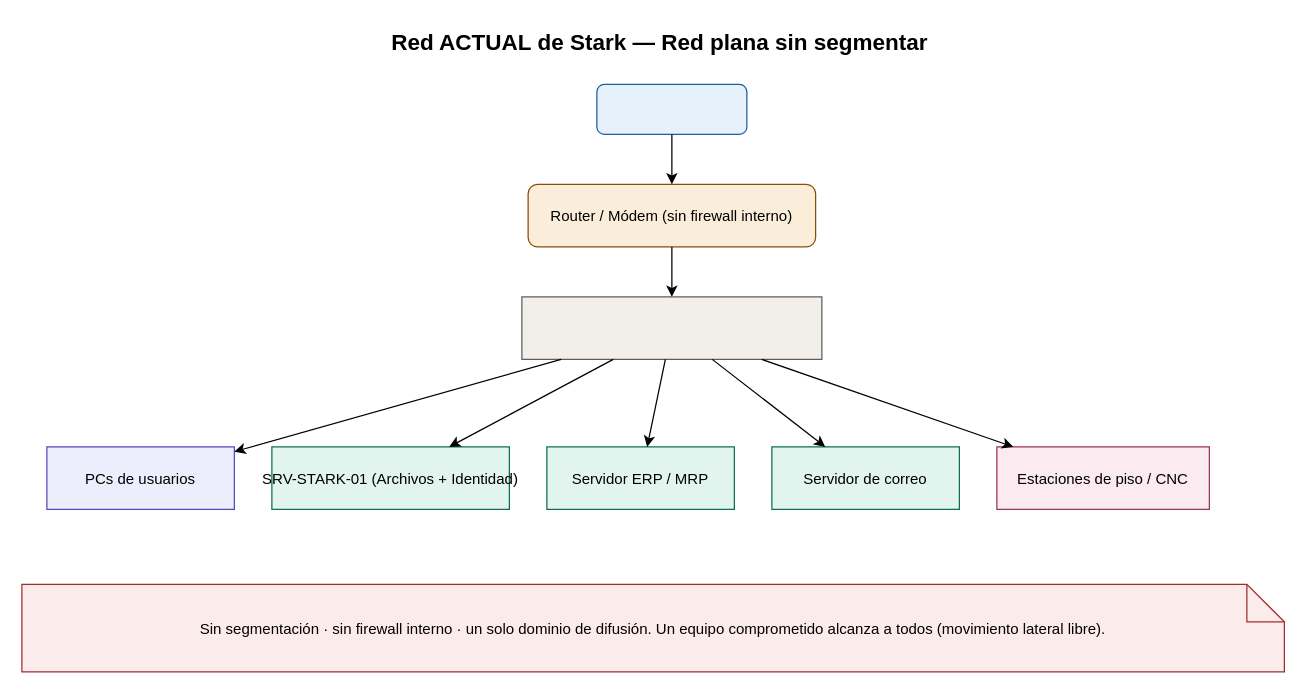
Some shapes in this 1306 by 694 pixel diagram are drawn without their labels. The centre of each missing label's shape, as x and y in pixels:
"Internet" belongs at point (671, 108).
"Switch único — LAN plana 192.168.1.0/24" belongs at point (671, 327).
